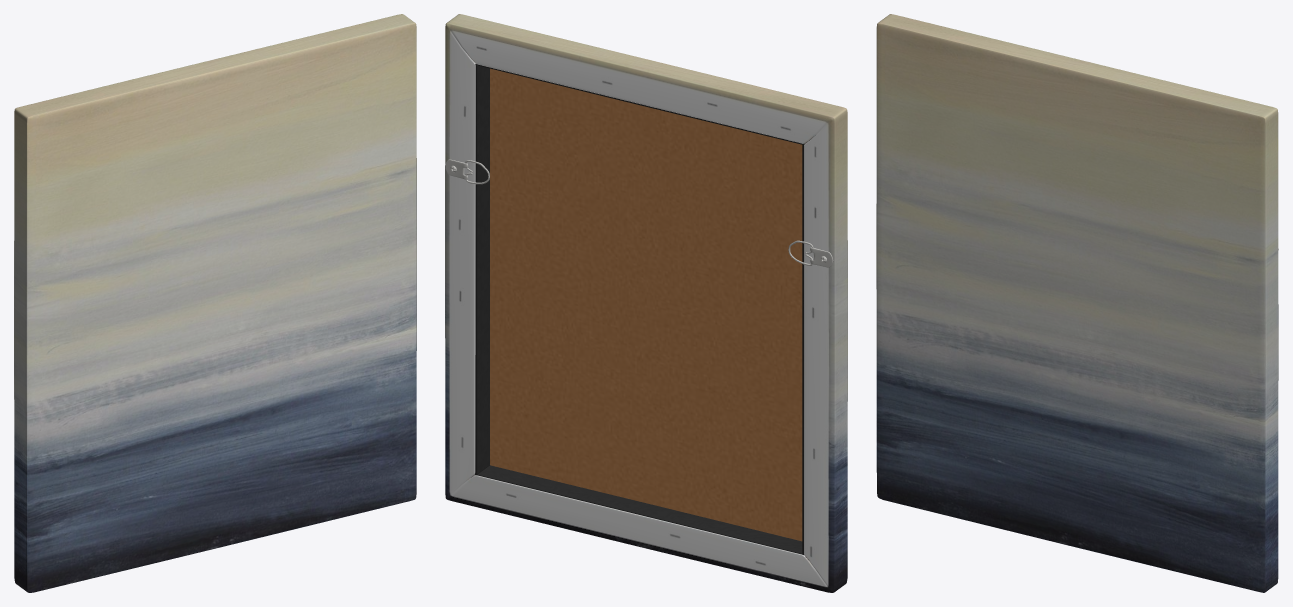
The picture shows the model from 3 angles, left to right: view 1: azimuth 30°, elevation 25°; view 2: azimuth 150°, elevation 25°; view 3: azimuth 330°, elevation 25°; orthographic projection.
Parts seen in each view (by area): view 1: RootNode; view 2: RootNode; view 3: RootNode.
Boxes of the visible parts, bbox=[...] form: RootNode: bbox=[14, 14, 416, 592]; RootNode: bbox=[445, 14, 847, 592]; RootNode: bbox=[876, 14, 1278, 592].
Bounding box in the file's own units: 0.6076 × 0.7098 × 0.0408.
1 material, 1 textured.
